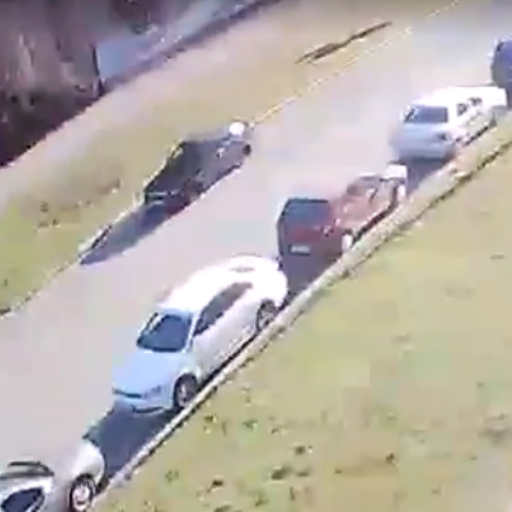Car: (111, 253, 286, 418), (280, 165, 403, 253), (142, 132, 248, 216), (399, 81, 503, 161), (0, 441, 105, 512)
